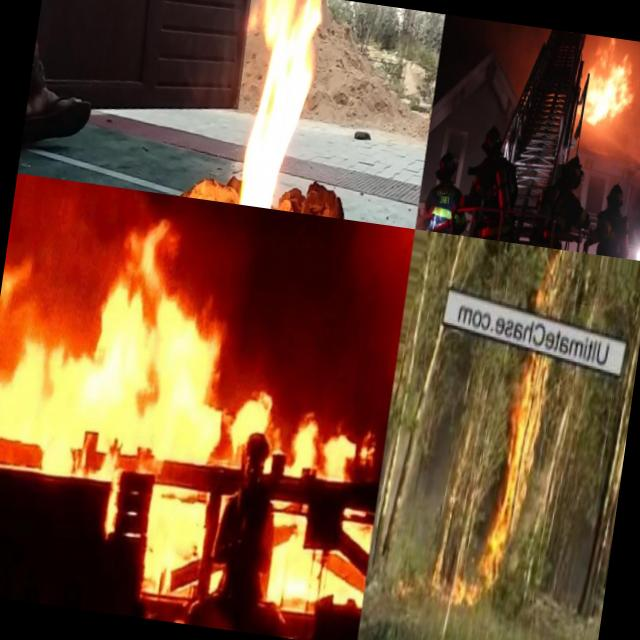fire: (0, 229, 243, 465), (207, 0, 341, 215), (450, 359, 554, 613), (291, 395, 376, 480), (579, 42, 640, 125), (226, 374, 280, 464)
smoke: (579, 120, 640, 175), (629, 50, 640, 131)
